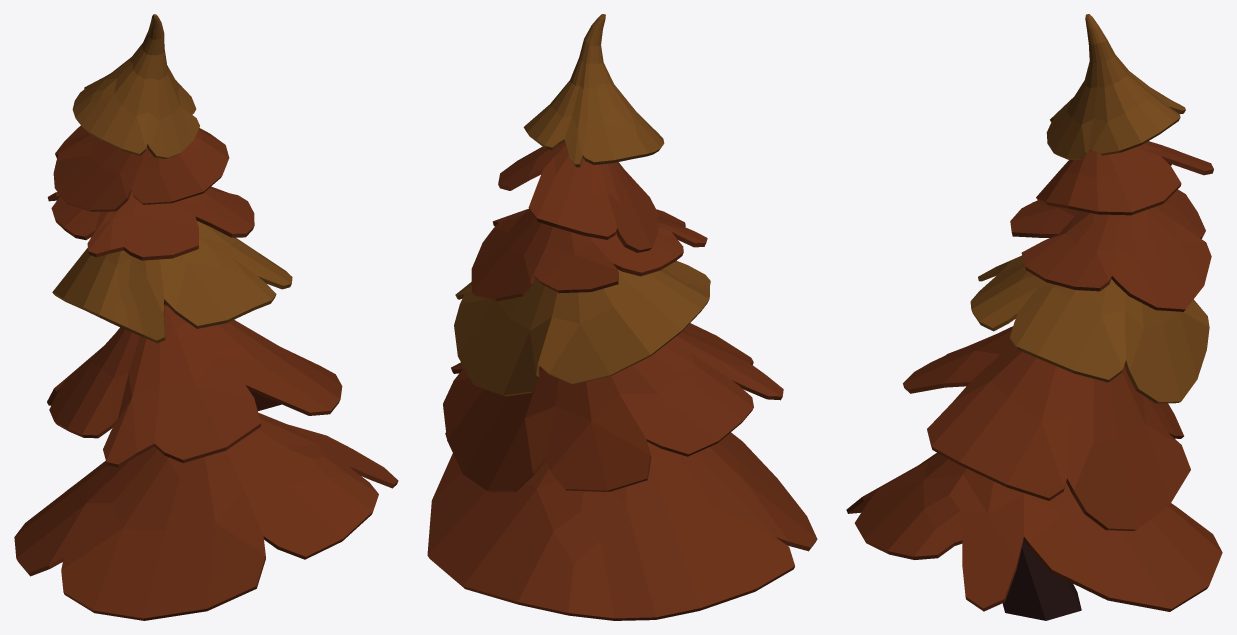
File: PineTree_Autumn_3.obj
The picture shows the model from 3 angles, left to right: view 1: azimuth 30°, elevation 25°; view 2: azimuth 150°, elevation 25°; view 3: azimuth 270°, elevation 25°; orthographic projection. The views are drawn at different scales.
Visible parts, largest first — view 1: PineTree_Autumn_3_Cylinder.063; view 2: PineTree_Autumn_3_Cylinder.063; view 3: PineTree_Autumn_3_Cylinder.063.
Boxes of the visible parts, x1,y1,x2,y2 form: PineTree_Autumn_3_Cylinder.063: (14, 14, 398, 620); PineTree_Autumn_3_Cylinder.063: (427, 14, 817, 620); PineTree_Autumn_3_Cylinder.063: (846, 14, 1222, 620).
Bounding box in the file's own units: 2.16 × 3.3 × 1.95.
